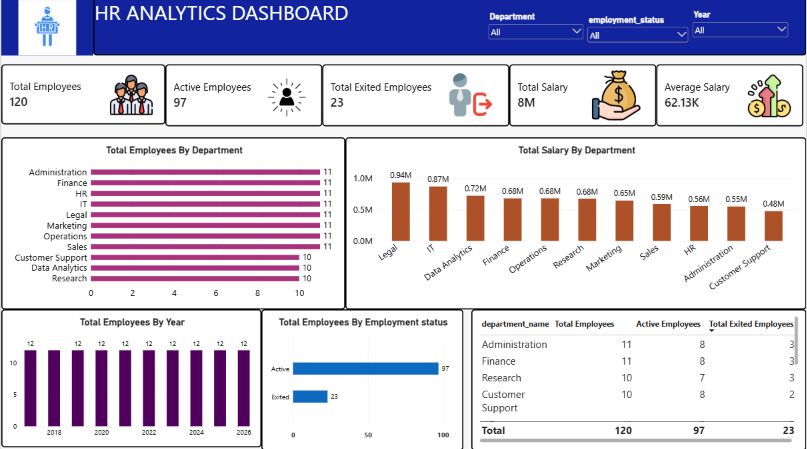

The dashboard page shown, as its layout file describes it:
{"tool":"powerbi","page":{"name":"Page 1","canvas":[1920,1080],"ordinal":0},"visuals":[{"type":"textbox","box":[219.5,0,1701.2,138.4],"z":1000},{"type":"cardVisual","fields":{"Data":["employees.Total Employees"]},"box":[0,159.9,391.3,143.2],"z":3000},{"type":"cardVisual","fields":{"Data":["employees.Active Employees"]},"box":[391.3,159.9,374.6,147.9],"z":4000},{"type":"cardVisual","fields":{"Data":["employees.Total Excited Employees"]},"box":[765.9,159.9,446.2,147.9],"z":5000},{"type":"cardVisual","fields":{"Data":["employees.Total Salary"]},"box":[1212,159.9,350.7,147.9],"z":6000},{"type":"cardVisual","fields":{"Data":["employees.Average Salary"]},"box":[1562.8,159.9,350.7,147.9],"z":7000},{"type":"clusteredBarChart","title":"Total Employees By Department","fields":{"Category":["departments.department_name"],"Y":["employees.Total Employees"]},"box":[0,334,820.8,410.4],"z":8000},{"type":"clusteredColumnChart","title":"Total Salary  By Department","fields":{"Category":["departments.department_name"],"Y":["employees.Total Salary"]},"box":[820.8,334,1099.9,410.4],"z":9000},{"type":"columnChart","title":"Total Employees By Year","fields":{"Category":["employees.hire_date.Variation.Date Hierarchy.Year"],"Y":["Count(employees.employee_id)"]},"box":[0,744.4,620.3,329.3],"z":10000},{"type":"barChart","title":"Total Employees By Employment status","fields":{"Category":["employees.employment_status"],"Y":["employees.Total Employees"]},"box":[620.3,744.4,482,336.4],"z":11000},{"type":"image","box":[250.5,181.3,119.3,102.6],"z":12000},{"type":"slicer","fields":{"Values":["employees.hire_date.Variation.Date Hierarchy.Year"]},"box":[1643.9,28.6,238.6,81.1],"z":14000},{"type":"slicer","fields":{"Values":["departments.department_name"]},"box":[1157.2,33.4,236.2,95.4],"z":15000},{"type":"slicer","fields":{"Values":["employees.employment_status"]},"box":[1393.4,40.6,250.5,97.8],"z":16000},{"type":"image","box":[0,0,219.5,138.4],"z":16001},{"type":"image","box":[610.8,178.9,140.8,119.3],"z":16002},{"type":"image","box":[1052.2,178.9,136,107.4],"z":16003},{"type":"image","box":[1393.4,174.2,147.9,119.3],"z":16004},{"type":"image","box":[1763.2,183.7,138.4,102.6],"z":16005},{"type":"tableEx","fields":{"Values":["departments.department_name","employees.Total Employees","employees.Active Employees","employees.Total Exited Employees"]},"box":[1121.4,744.4,799.3,336.4],"z":16006}]}

Visuals, with their boxes in screenshot pixels (x1, y1, x2, y2), scaled from the page's 1920x1080 canvas onto the 807x449 screenshot:
textbox: (92, 0, 806, 58)
cardVisual - employees.Total Employees: (0, 66, 164, 126)
cardVisual - employees.Active Employees: (164, 66, 322, 128)
cardVisual - employees.Total Excited Employees: (322, 66, 509, 128)
cardVisual - employees.Total Salary: (509, 66, 657, 128)
cardVisual - employees.Average Salary: (657, 66, 804, 128)
"Total Employees By Department" clusteredBarChart: (0, 139, 345, 309)
"Total Salary  By Department" clusteredColumnChart: (345, 139, 806, 309)
"Total Employees By Year" columnChart: (0, 309, 261, 446)
"Total Employees By Employment status" barChart: (261, 309, 463, 448)
image: (105, 75, 155, 118)
slicer - employees.hire_date.Variation.Date Hierarchy.Year: (691, 12, 791, 46)
slicer - departments.department_name: (486, 14, 586, 54)
slicer - employees.employment_status: (586, 17, 691, 58)
image: (0, 0, 92, 58)
image: (257, 74, 316, 124)
image: (442, 74, 499, 119)
image: (586, 72, 648, 122)
image: (741, 76, 799, 119)
tableEx - departments.department_name x employees.Total Employees: (471, 309, 806, 448)
